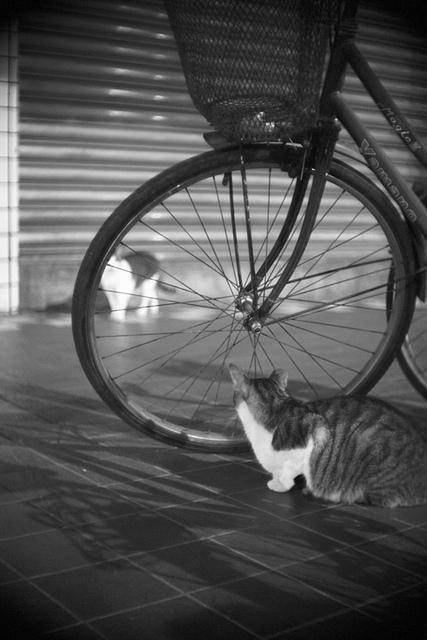bicycle: (71, 3, 427, 441)
